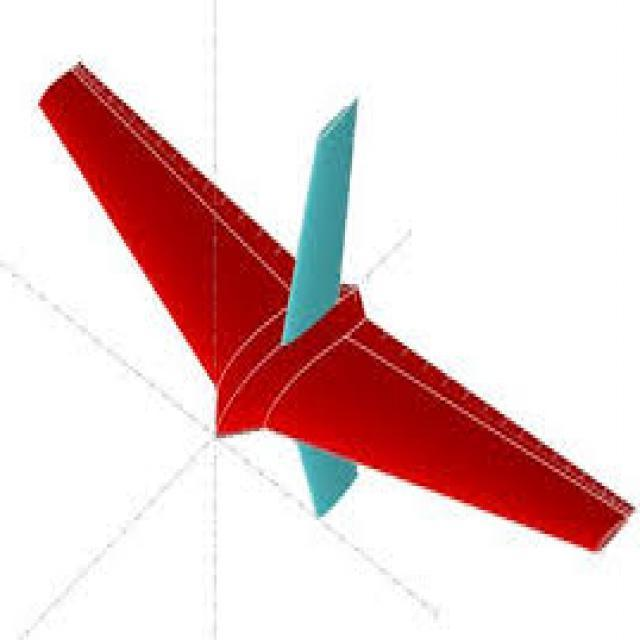UAV: (63, 88, 574, 546)
